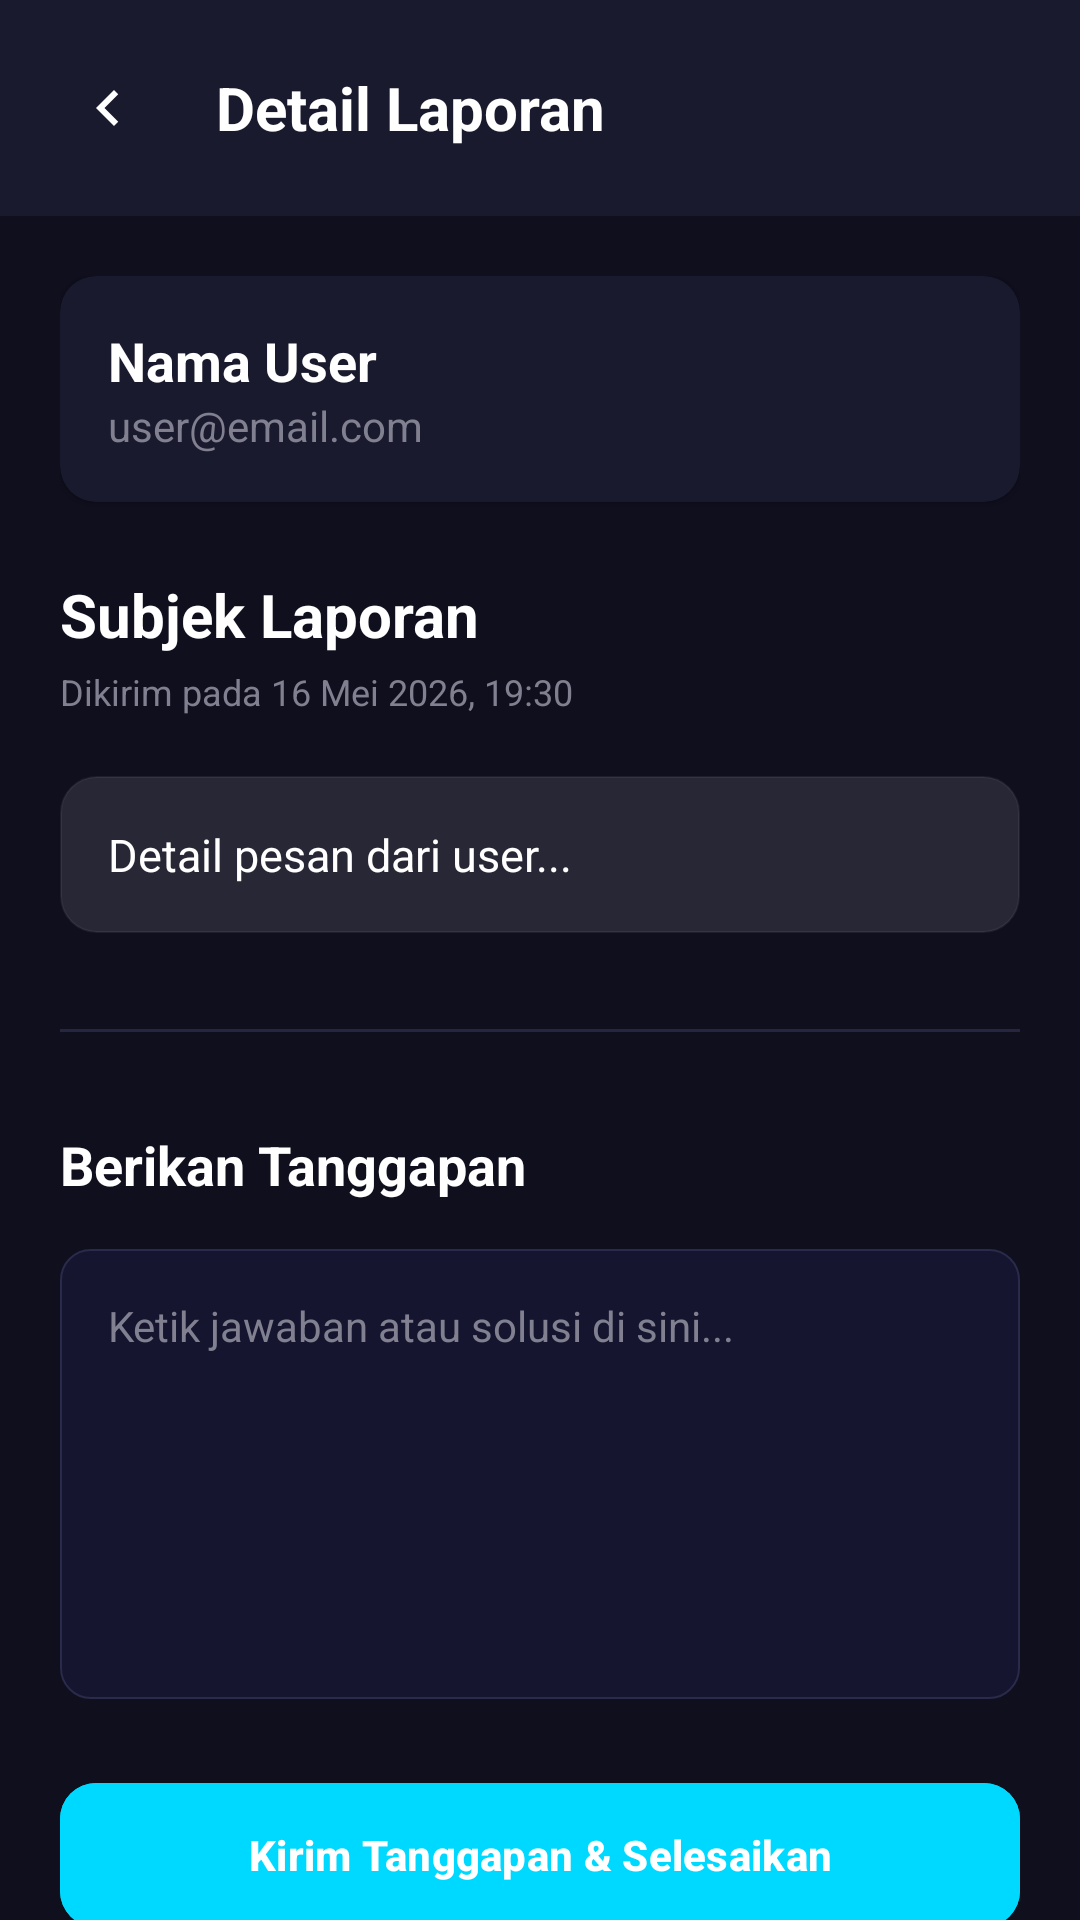

Where icons sit on this 1080*1920 app screen, as (x1, y1, x2, y2):
back arrow: (96, 90, 118, 126)
